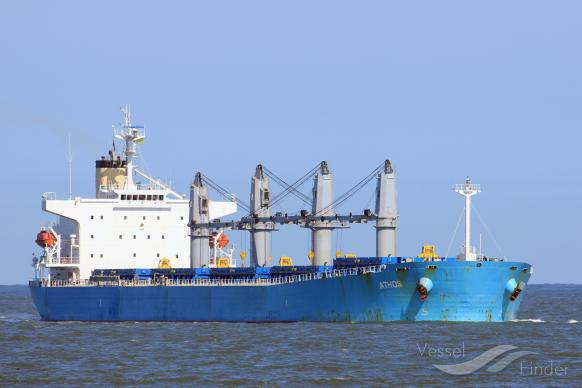OCR: (375, 278, 408, 292)
